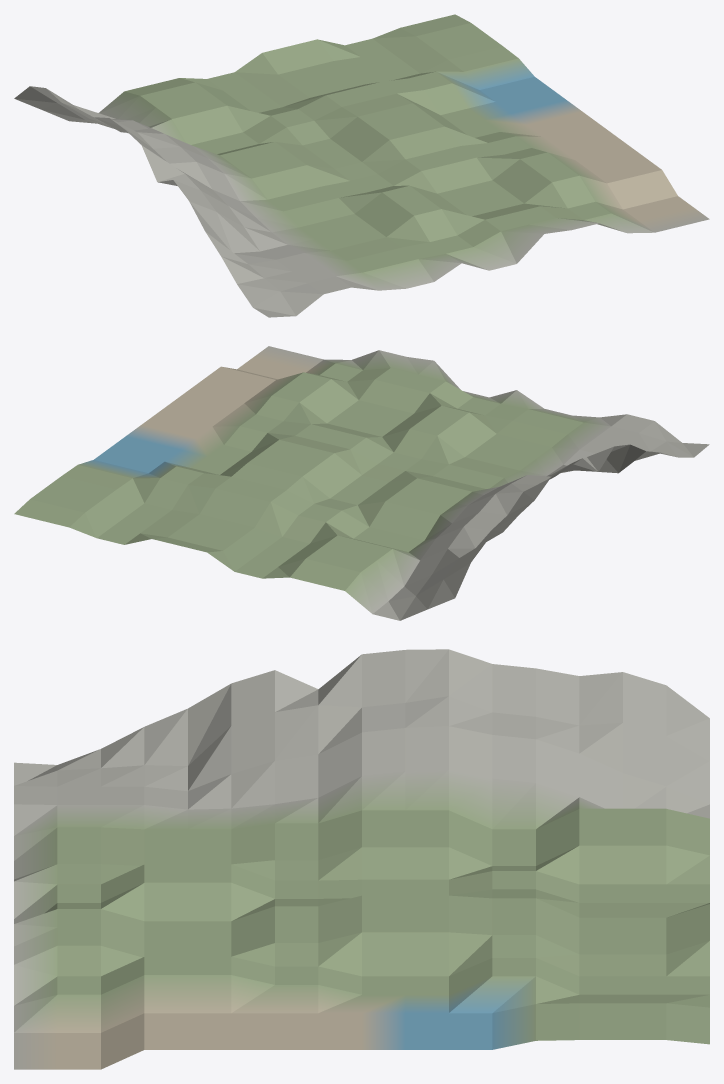
3 views of the same model, one above another, from view 1: azimuth 30°, elevation 25°; view 2: azimuth 150°, elevation 25°; view 3: azimuth 270°, elevation 25° (orthographic). The views are drawn at different scales.
Size of the model in its own units: 32 by 6.4 by 32.
